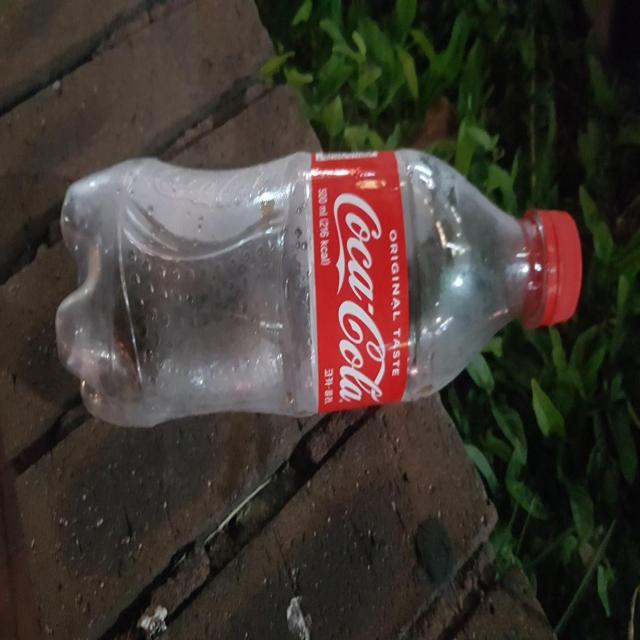plastic: (55, 148, 583, 425)
